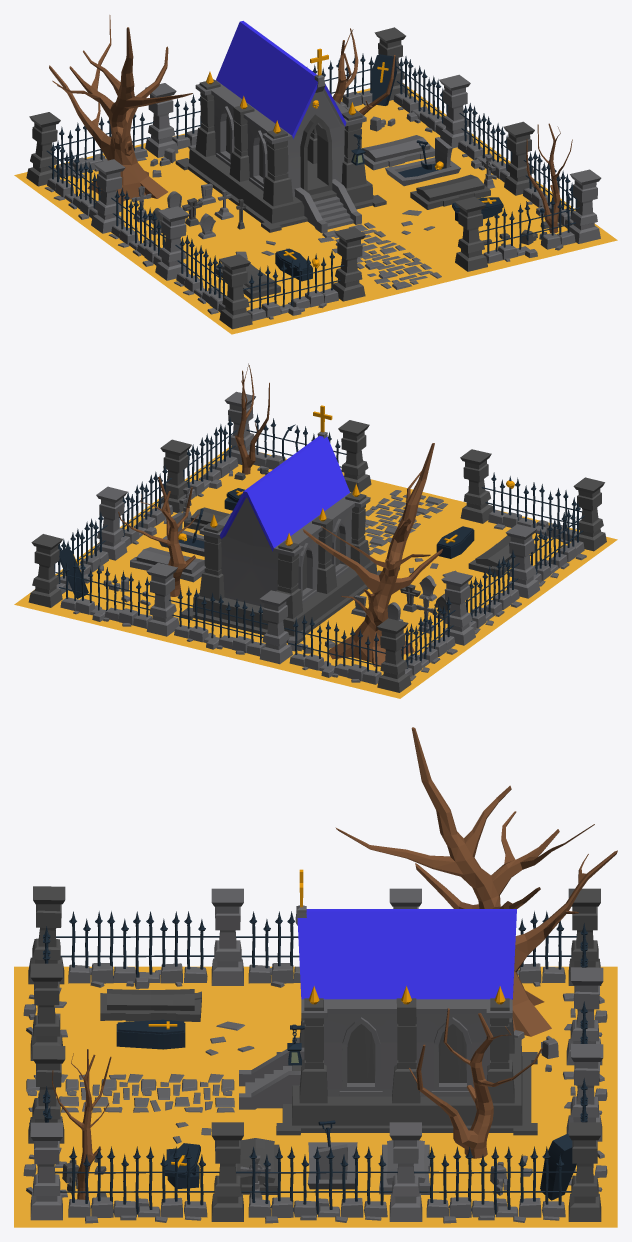
Rendered from GraveYard.fbx.
The picture shows the model from 3 angles, top to bottom: view 1: azimuth 30°, elevation 25°; view 2: azimuth 150°, elevation 25°; view 3: azimuth 270°, elevation 25°; orthographic projection. The views are drawn at different scales.
Parts seen in each view (by area): view 1: Plane001, Crypt.008, Crypt, DeadTree, Crypt.001, Crypt.007, FenceSection, Tiles001, FenceSection002, FenceSection017, FenceSection009, FenceSection018 (+28 smaller); view 2: Plane001, Crypt.008, Crypt, DeadTree, Crypt.001, Crypt.007, FenceSection015, FenceSection014, FenceSection013, FenceSection, FenceSection019, FenceSection017 (+27 smaller); view 3: Plane001, Crypt.008, Crypt, DeadTree, Crypt.007, Crypt.001, FenceSection009, FenceSection010, FenceSection011, FenceSection019, Tiles001, DeadTree3 (+22 smaller).
Part boxes in pixels (<box>): Plane001: <box>14,83,617,334</box>; Crypt.008: <box>216,21,346,138</box>; Crypt: <box>195,80,366,233</box>; DeadTree: <box>49,15,192,203</box>; Crypt.001: <box>195,79,366,206</box>; Crypt.007: <box>175,147,386,232</box>; FenceSection: <box>243,250,344,321</box>; Tiles001: <box>318,222,441,289</box>; FenceSection002: <box>478,192,579,263</box>; FenceSection017: <box>44,140,101,219</box>; FenceSection009: <box>393,56,448,135</box>; FenceSection018: <box>108,187,165,266</box>; Plane001: <box>14,446,617,698</box>; Crypt.008: <box>219,435,349,551</box>; Crypt: <box>199,492,370,606</box>; DeadTree: <box>303,443,442,666</box>; Crypt.001: <box>199,492,370,618</box>; Crypt.007: <box>181,560,381,644</box>; FenceSection015: <box>284,615,385,684</box>; FenceSection014: <box>169,586,267,656</box>; FenceSection013: <box>55,559,154,628</box>; FenceSection: <box>481,472,581,543</box>; FenceSection019: <box>529,502,586,586</box>; FenceSection017: <box>401,596,457,680</box>; Plane001: <box>14,966,617,1227</box>; Crypt.008: <box>297,909,516,999</box>; Crypt: <box>239,999,512,1109</box>; DeadTree: <box>335,727,617,1036</box>; Crypt.007: <box>276,1037,537,1135</box>; Crypt.001: <box>299,998,514,1103</box>; FenceSection009: <box>414,1146,576,1223</box>; FenceSection010: <box>236,1146,397,1223</box>; FenceSection011: <box>55,1146,219,1223</box>; FenceSection019: <box>56,911,219,988</box>; Tiles001: <box>26,1073,234,1112</box>; DeadTree3: <box>409,1008,542,1158</box>.
Size of the model in its own units: 1046 by 497 by 1022.
